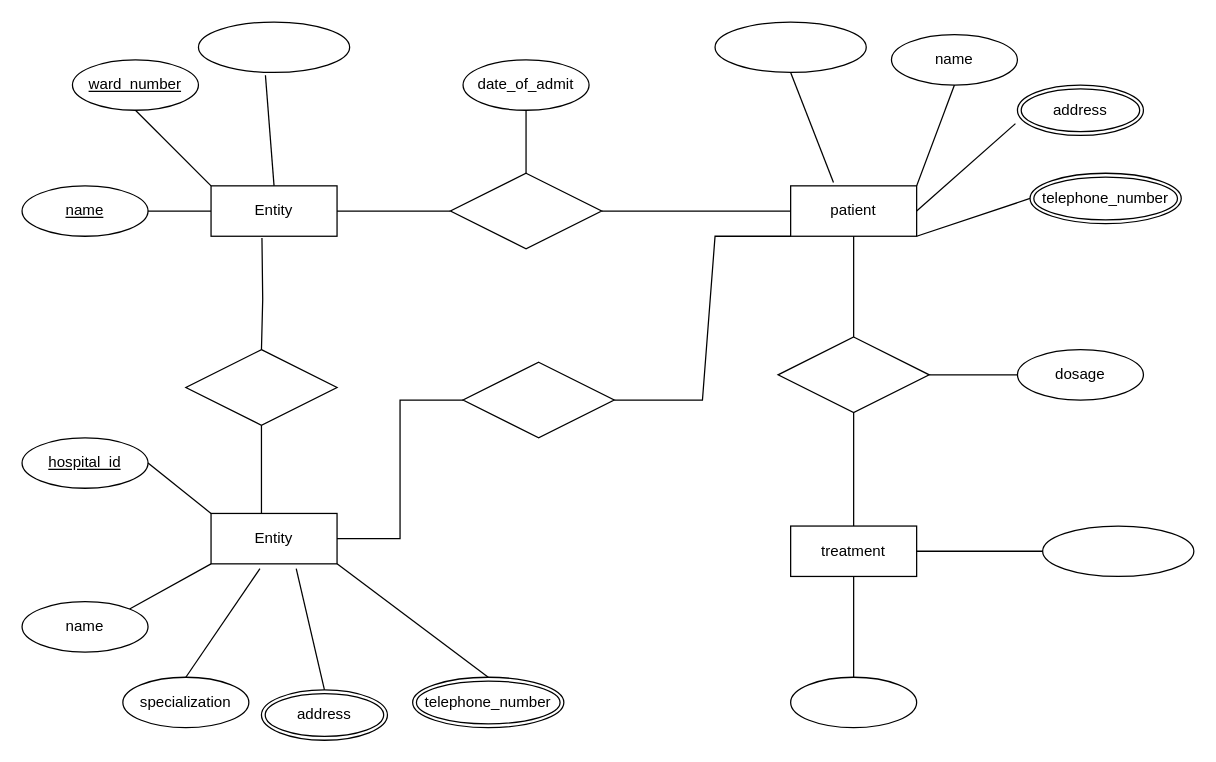
Image size: 1216x762. Some labels were removed from this diagram. Here are the shapes that lost their labels. From the top down, the centre of each, then its label:
[273,46]: number_of_patients
[790,46]: admission_number
[525,210]: host
[261,386]: has
[853,374]: obtain
[538,399]: assign
[1117,550]: treatment_number
[853,702]: description
